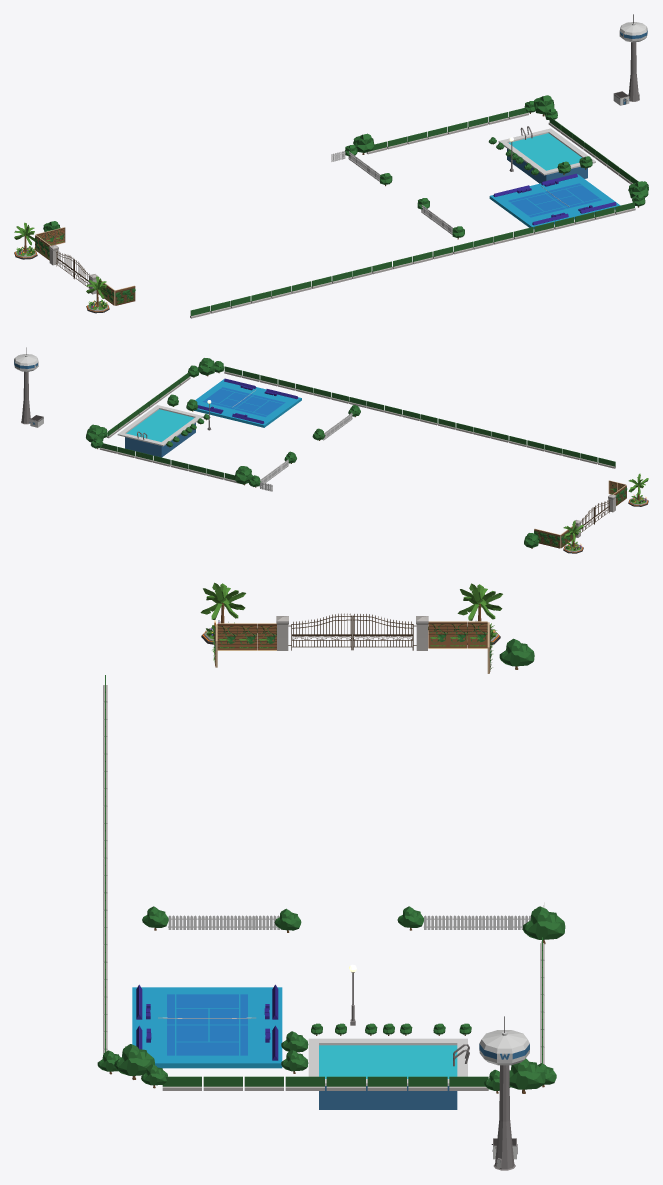
The model's file is gated_residential_full_props.glb.
3 views of the same model, one above another, from view 1: azimuth 30°, elevation 25°; view 2: azimuth 150°, elevation 25°; view 3: azimuth 270°, elevation 25° (orthographic). The views are drawn at different scales.
Parts seen in each view (by area): view 1: tile-pool-small, Box172_blue2_0, Plane034_blue_0, water-tower-big, scifi-pot-low-palm.002, scifi-pot-low-palm, polySurface635_phong1_0; view 2: tile-pool-small, Box172_blue2_0, Plane034_blue_0, water-tower-big, scifi-pot-low-palm, scifi-pot-low-palm.002, polySurface635_phong1_0; view 3: tile-pool-small, Box172_blue2_0, Plane034_blue_0, water-tower-big, polySurface635_phong1_0, scifi-pot-low-palm.002, scifi-pot-low-palm, bush-big.001, bush-big.006, bush-big.011.
Boxes of the visible parts, x1=… form: tile-pool-small: x1=498, y1=126, x2=595, y2=183; Box172_blue2_0: x1=489, y1=174, x2=620, y2=228; Plane034_blue_0: x1=508, y1=183, x2=601, y2=217; water-tower-big: x1=613, y1=14, x2=647, y2=105; scifi-pot-low-palm.002: x1=86, y1=276, x2=109, y2=313; scifi-pot-low-palm: x1=14, y1=222, x2=37, y2=259; polySurface635_phong1_0: x1=56, y1=250, x2=89, y2=287; tile-pool-small: x1=117, y1=405, x2=203, y2=457; Box172_blue2_0: x1=194, y1=379, x2=301, y2=427; Plane034_blue_0: x1=202, y1=387, x2=285, y2=417; water-tower-big: x1=14, y1=347, x2=43, y2=427; scifi-pot-low-palm: x1=563, y1=520, x2=583, y2=553; scifi-pot-low-palm.002: x1=628, y1=473, x2=648, y2=506; polySurface635_phong1_0: x1=581, y1=500, x2=610, y2=532; tile-pool-small: x1=308, y1=1038, x2=469, y2=1109; Box172_blue2_0: x1=132, y1=987, x2=282, y2=1068; Plane034_blue_0: x1=167, y1=994, x2=247, y2=1055; water-tower-big: x1=479, y1=1016, x2=529, y2=1170; polySurface635_phong1_0: x1=288, y1=613, x2=416, y2=650; scifi-pot-low-palm.002: x1=200, y1=582, x2=245, y2=644; scifi-pot-low-palm: x1=457, y1=583, x2=502, y2=644; bush-big.001: x1=522, y1=906, x2=565, y2=943; bush-big.006: x1=509, y1=1058, x2=545, y2=1093; bush-big.011: x1=114, y1=1044, x2=154, y2=1079.
Bounding box in the file's own units: 132 × 19.99 × 47.59.
